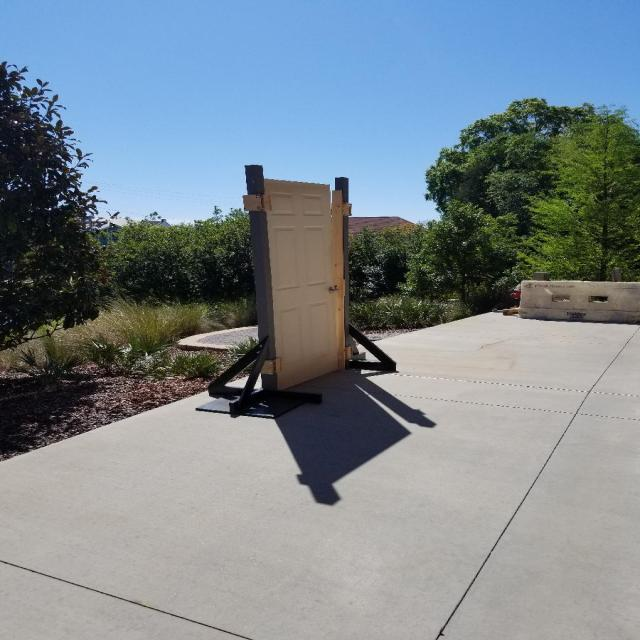door: (260, 176, 342, 396), (326, 284, 336, 298)
